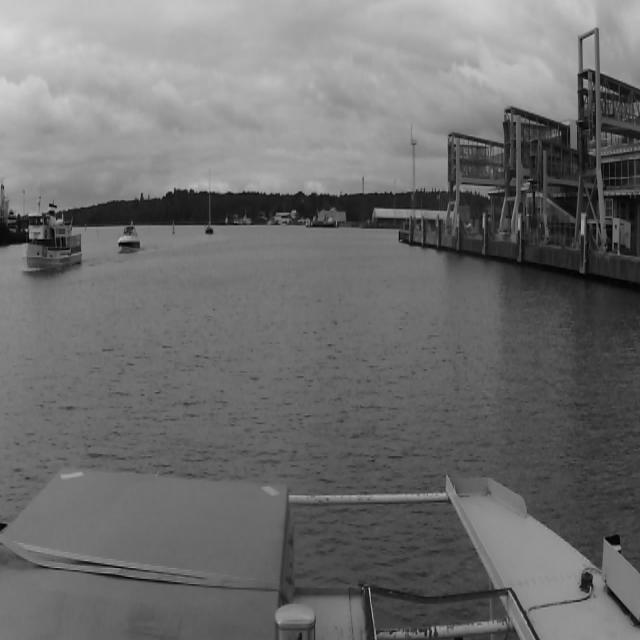buoy: (170, 216, 178, 241)
ship: (25, 197, 85, 270), (202, 166, 214, 240), (118, 220, 140, 254)
